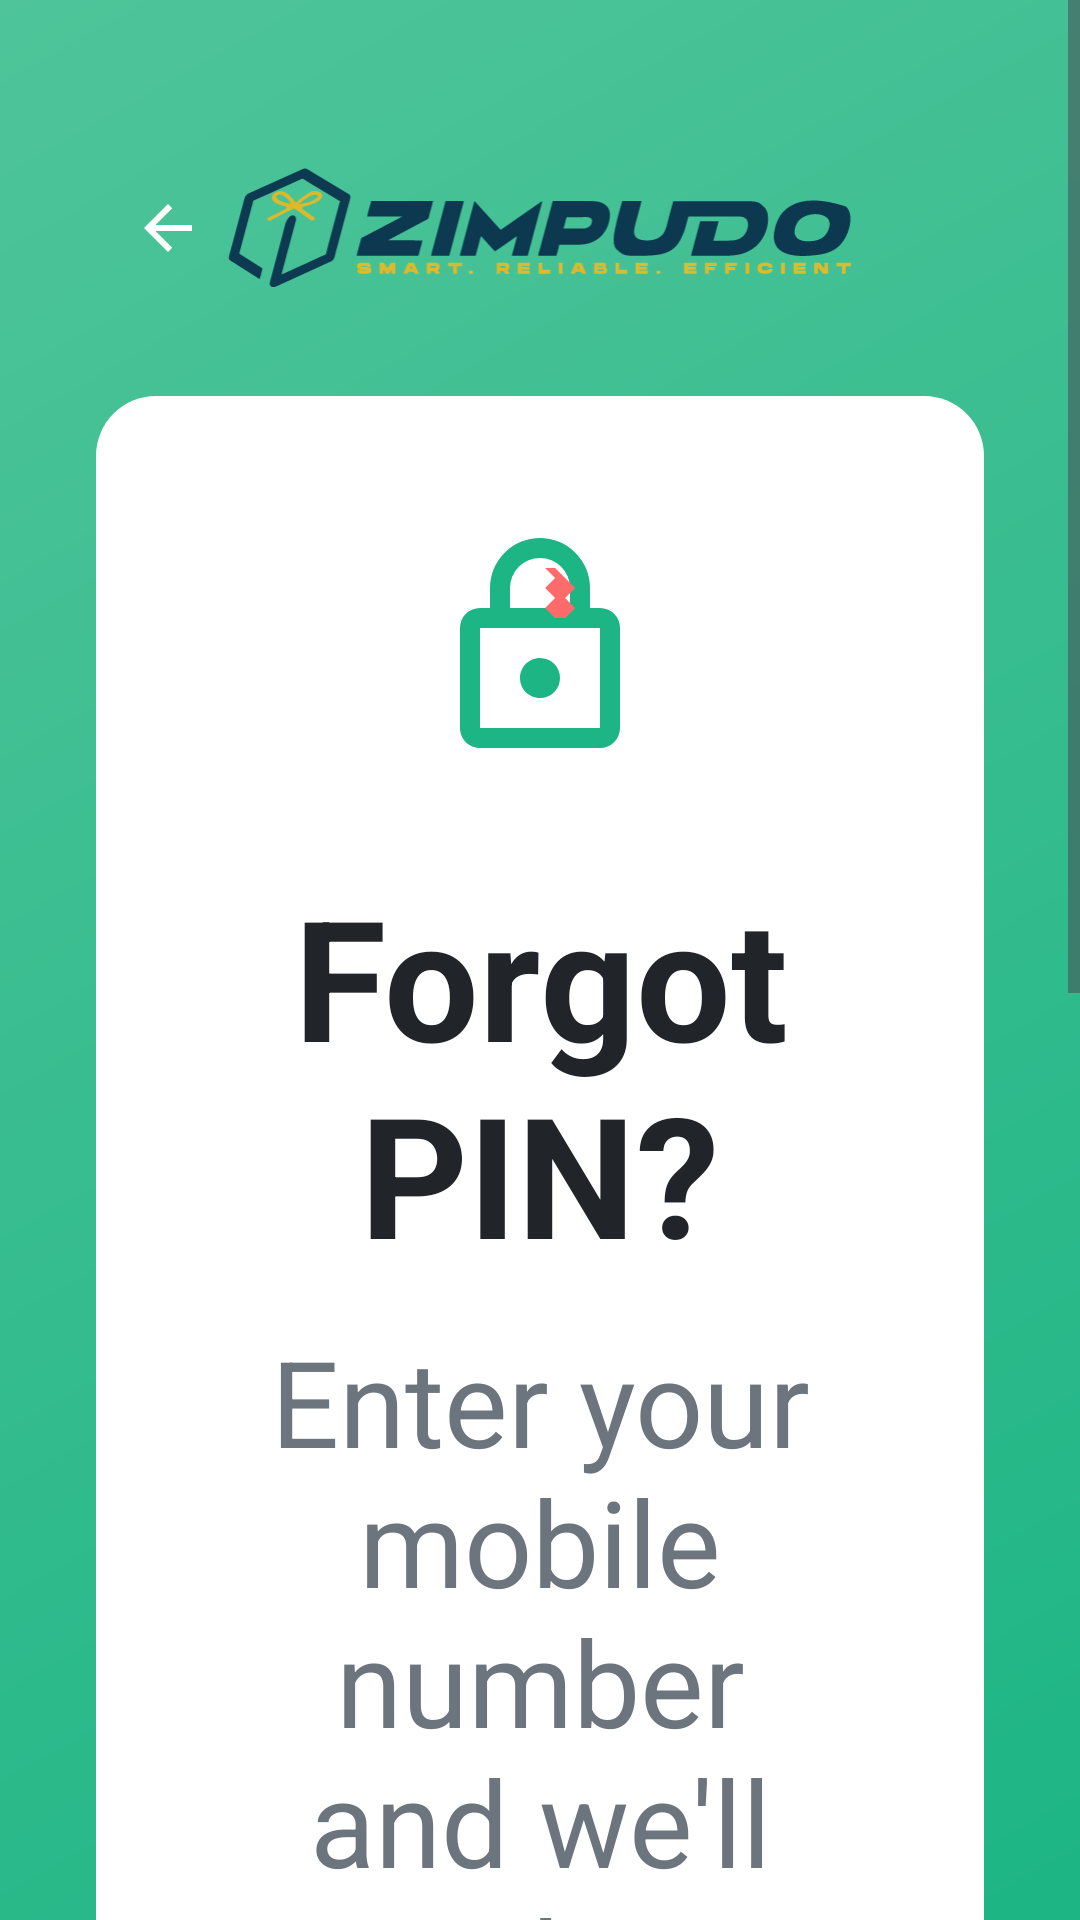

Point at icon controls on the screen. Image size 1080px x 1920px, points as (x=x, y=y).
Back: (x=168, y=228)
